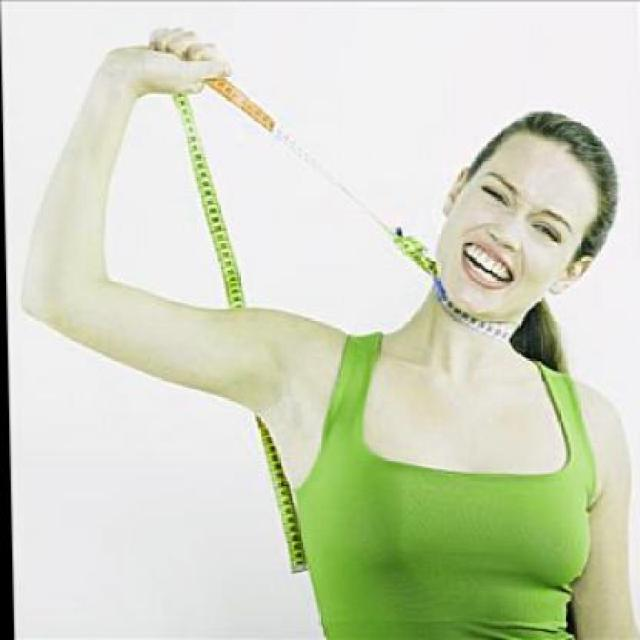Healthy: (386, 294, 546, 393)
